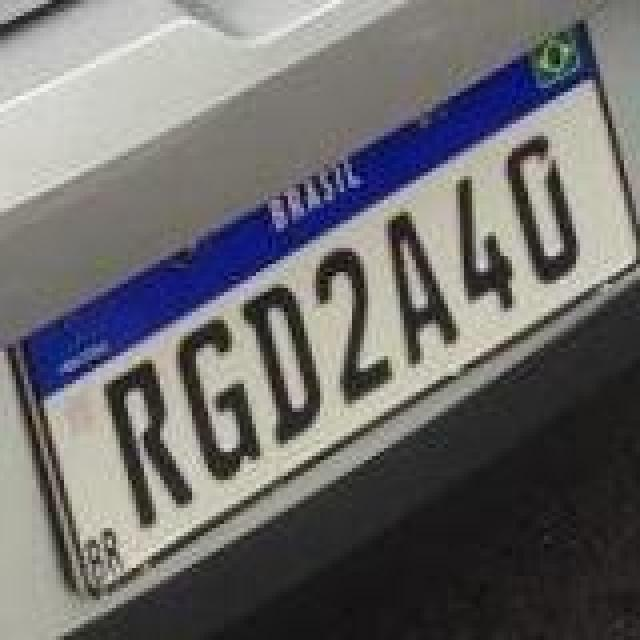2: (310, 248, 394, 408)
4: (458, 176, 518, 320)
A: (386, 208, 462, 368)
D: (236, 284, 324, 444), (504, 130, 584, 286)
G: (174, 318, 266, 482)
R: (102, 354, 194, 526)
